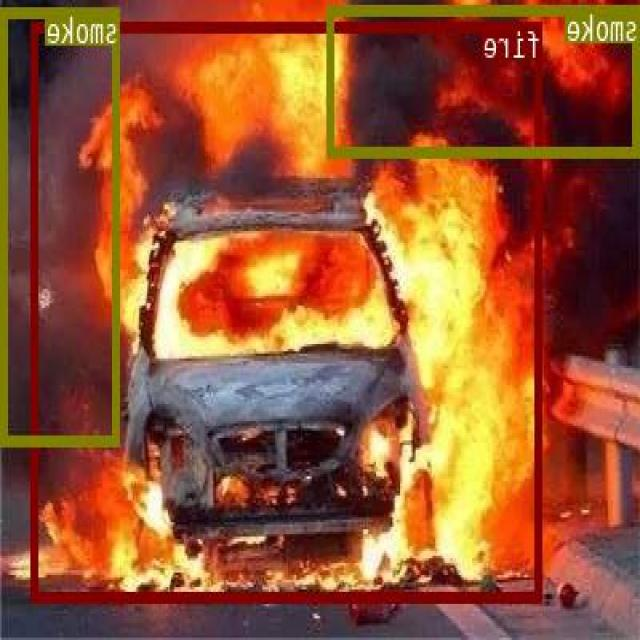fire: (33, 20, 543, 600)
smoke: (3, 6, 121, 443), (328, 4, 640, 155)
